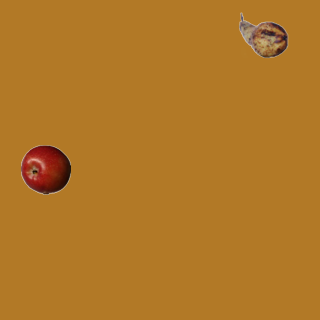Apple Braeburn: (20, 144, 70, 194)
Pear Abate: (238, 10, 288, 60)
